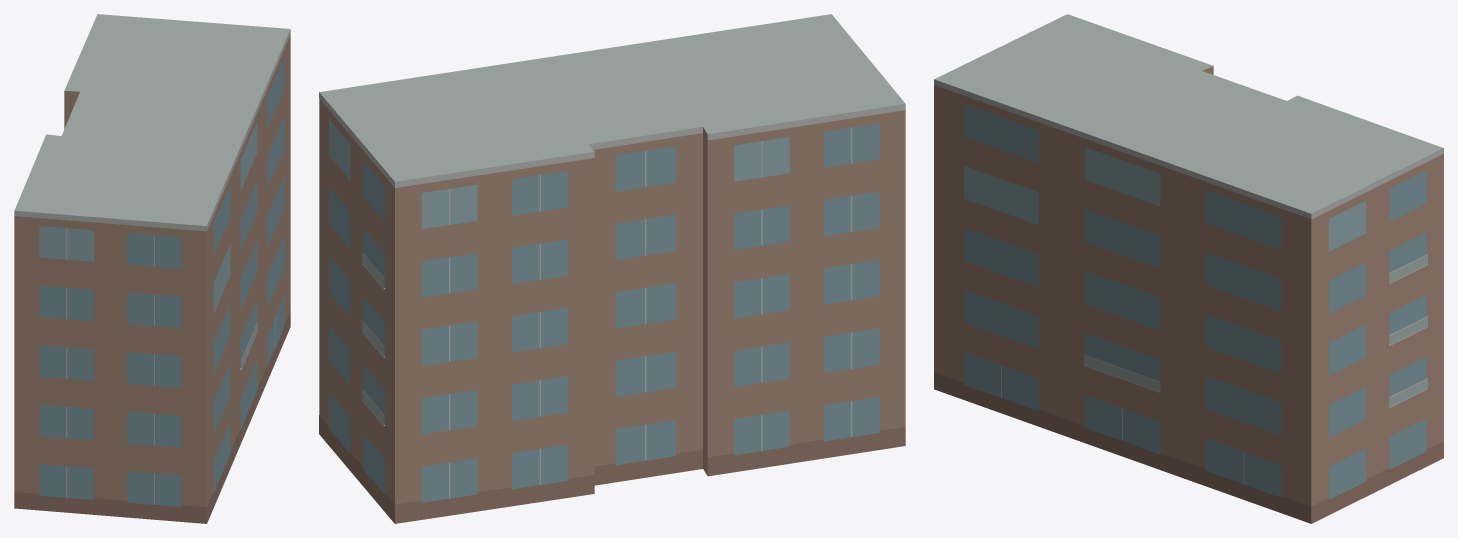
File: survey-upis-32676865.glb
3 views of the same model, side by side, from view 1: azimuth 30°, elevation 25°; view 2: azimuth 150°, elevation 25°; view 3: azimuth 270°, elevation 25° (orthographic). The views are drawn at different scales.
Visible parts, largest first — view 1: survey-upis-32676865.tmp; view 2: survey-upis-32676865.tmp; view 3: survey-upis-32676865.tmp.
Boxes of the visible parts, <box> form: survey-upis-32676865.tmp: <box>14,14,290,523</box>; survey-upis-32676865.tmp: <box>319,14,905,523</box>; survey-upis-32676865.tmp: <box>934,14,1443,523</box>.
Bounding box in the file's own units: 18.68 × 13.5 × 20.12.
